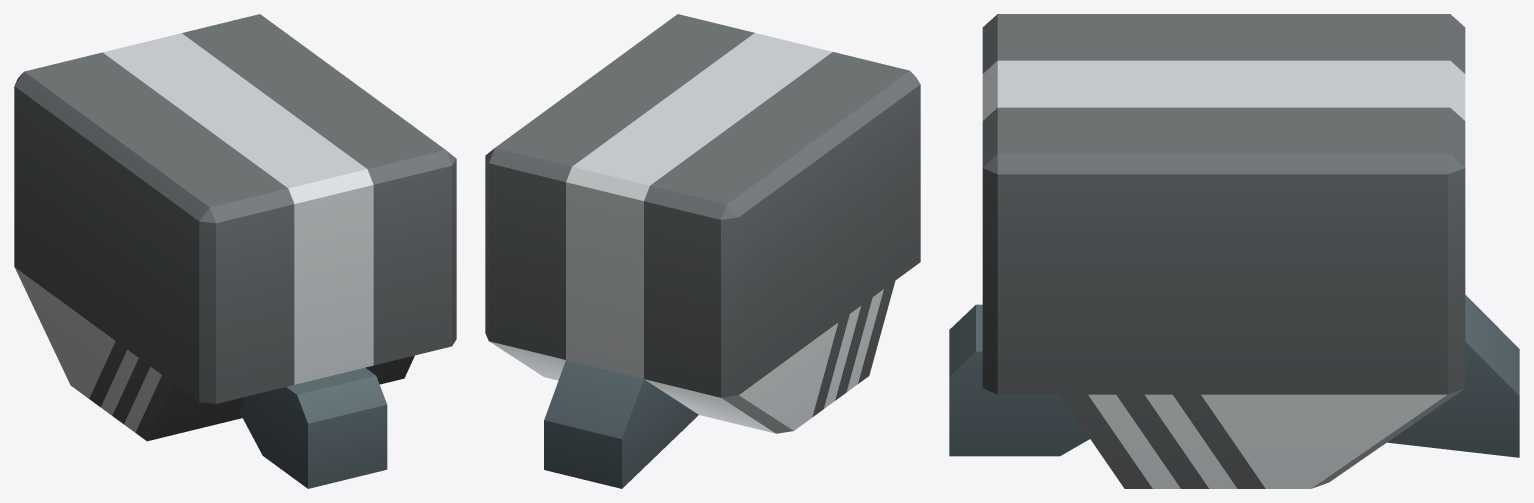
File: Delivery_drone_001.fbx
3 views of the same model, side by side, from view 1: azimuth 30°, elevation 25°; view 2: azimuth 150°, elevation 25°; view 3: azimuth 270°, elevation 25° (orthographic). The views are drawn at different scales.
Parts seen in each view (by area): view 1: Delivery_drone_001; view 2: Delivery_drone_001; view 3: Delivery_drone_001.
Boxes of the visible parts, x1,y1,x2,y2 form: Delivery_drone_001: (14,14,456,488); Delivery_drone_001: (485,14,920,488); Delivery_drone_001: (949,14,1519,488).
Bounding box in the file's own units: 60 × 94.48 × 64.
